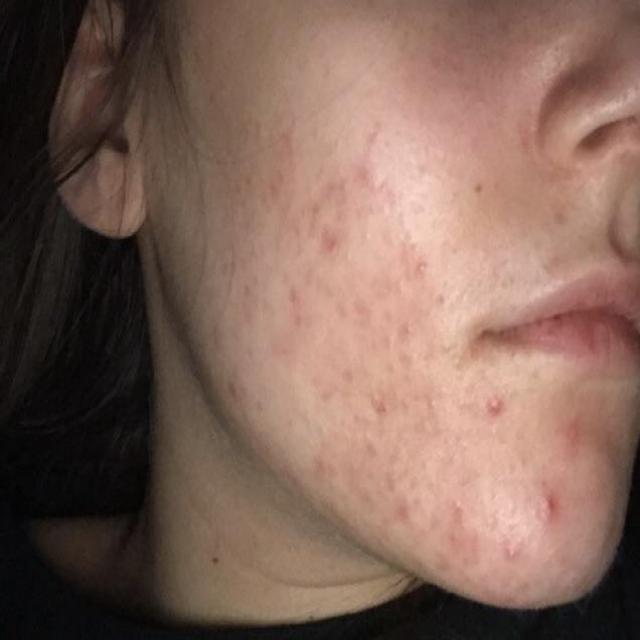Acne: (304, 451, 352, 518), (360, 386, 398, 452), (286, 281, 324, 339), (384, 482, 416, 543), (452, 501, 476, 574), (566, 417, 598, 465), (402, 240, 431, 287), (320, 231, 354, 269), (233, 274, 259, 323), (356, 156, 383, 197), (485, 382, 505, 432), (220, 368, 240, 410), (554, 204, 580, 235), (466, 172, 488, 204), (502, 534, 516, 578), (544, 483, 558, 518)
